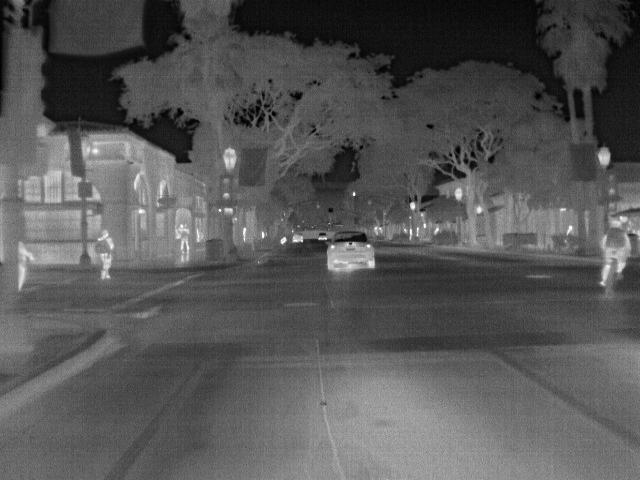car: (326, 230, 378, 272), (316, 232, 333, 244), (292, 234, 305, 244)
person: (596, 217, 631, 287), (94, 228, 116, 278), (17, 239, 37, 291), (177, 221, 193, 251)
